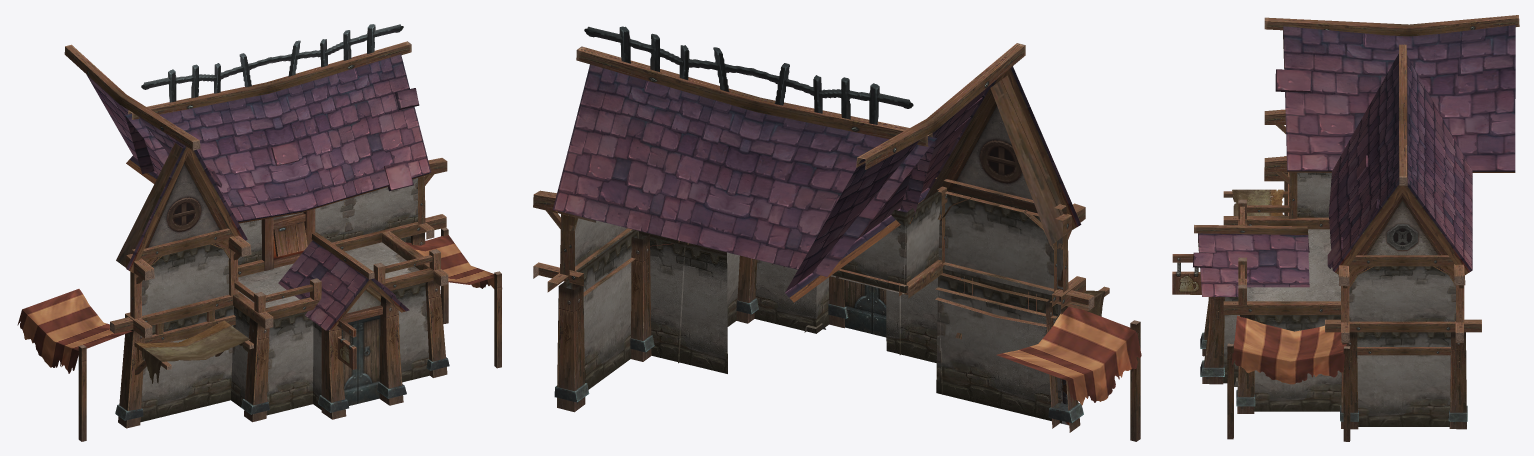
Rendered from zhucheng_building_jiuguan.FBX.
The picture shows the model from 3 angles, left to right: view 1: azimuth 30°, elevation 25°; view 2: azimuth 150°, elevation 25°; view 3: azimuth 270°, elevation 25°; orthographic projection. The views are drawn at different scales.
Visible parts, largest first — view 1: zhucheng_building_jiuguan; view 2: zhucheng_building_jiuguan; view 3: zhucheng_building_jiuguan.
Part boxes in pixels (x1=…): zhucheng_building_jiuguan: x1=17, y1=24, x2=502, y2=441; zhucheng_building_jiuguan: x1=533, y1=26, x2=1141, y2=441; zhucheng_building_jiuguan: x1=1172, y1=15, x2=1519, y2=441.
Size of the model in its own units: 16.77 by 11.51 by 12.38.
